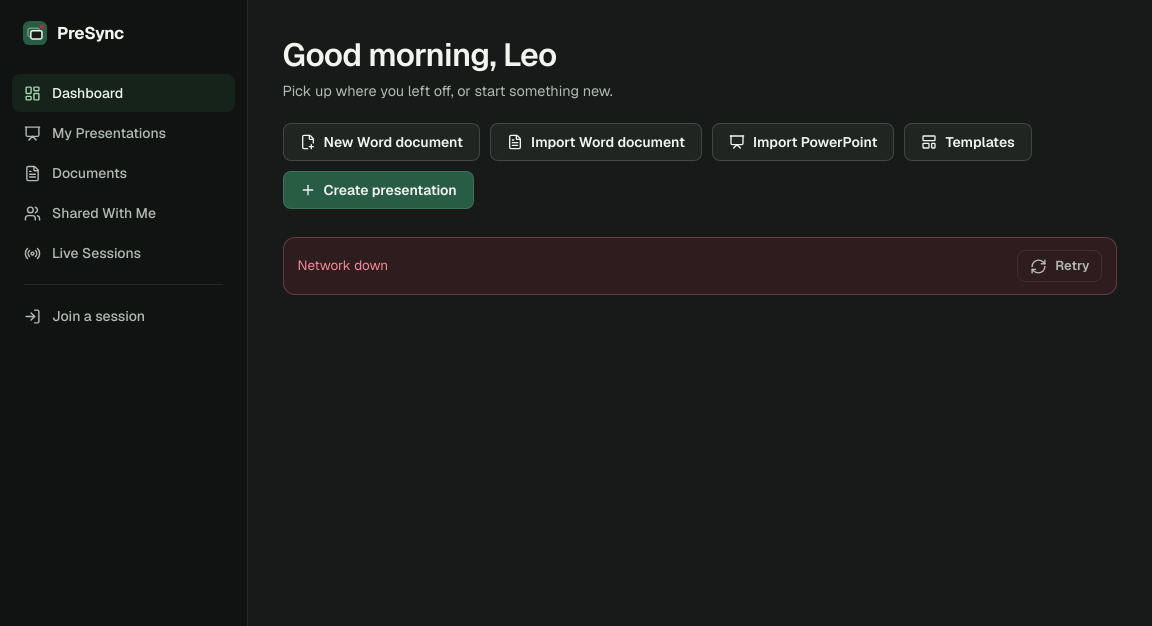
DecksPage › offers a retry when the list fails to load
This screenshot has width=1152, height=626.
expect the text "Network down" is shown: met, box 298,256 -> 388,274
Click the button "Retry". click: point(1060, 266)
box: 1017,250 -> 1102,282
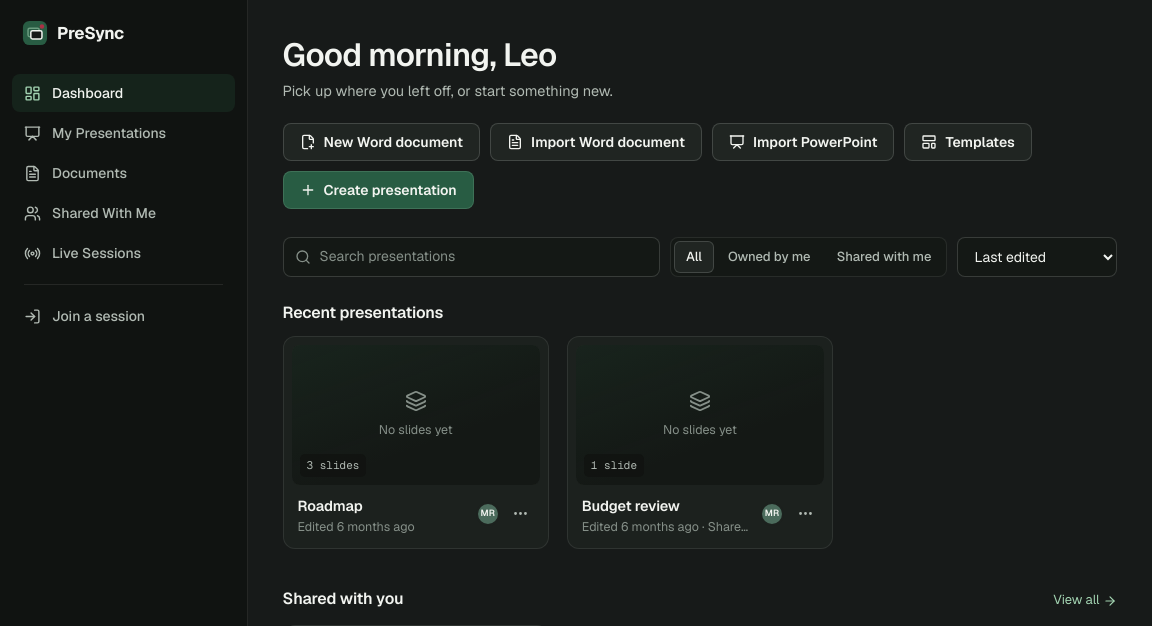
expect the heading "Roadmap" is shown: met, box 298,496 -> 362,515
